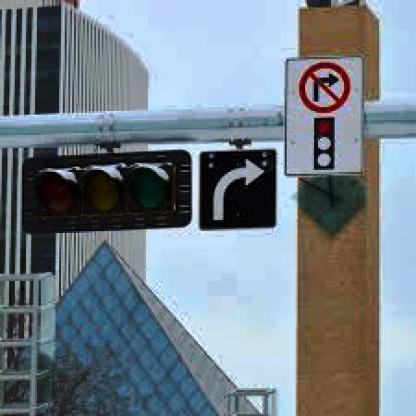No right turn: (292, 60, 356, 113)
